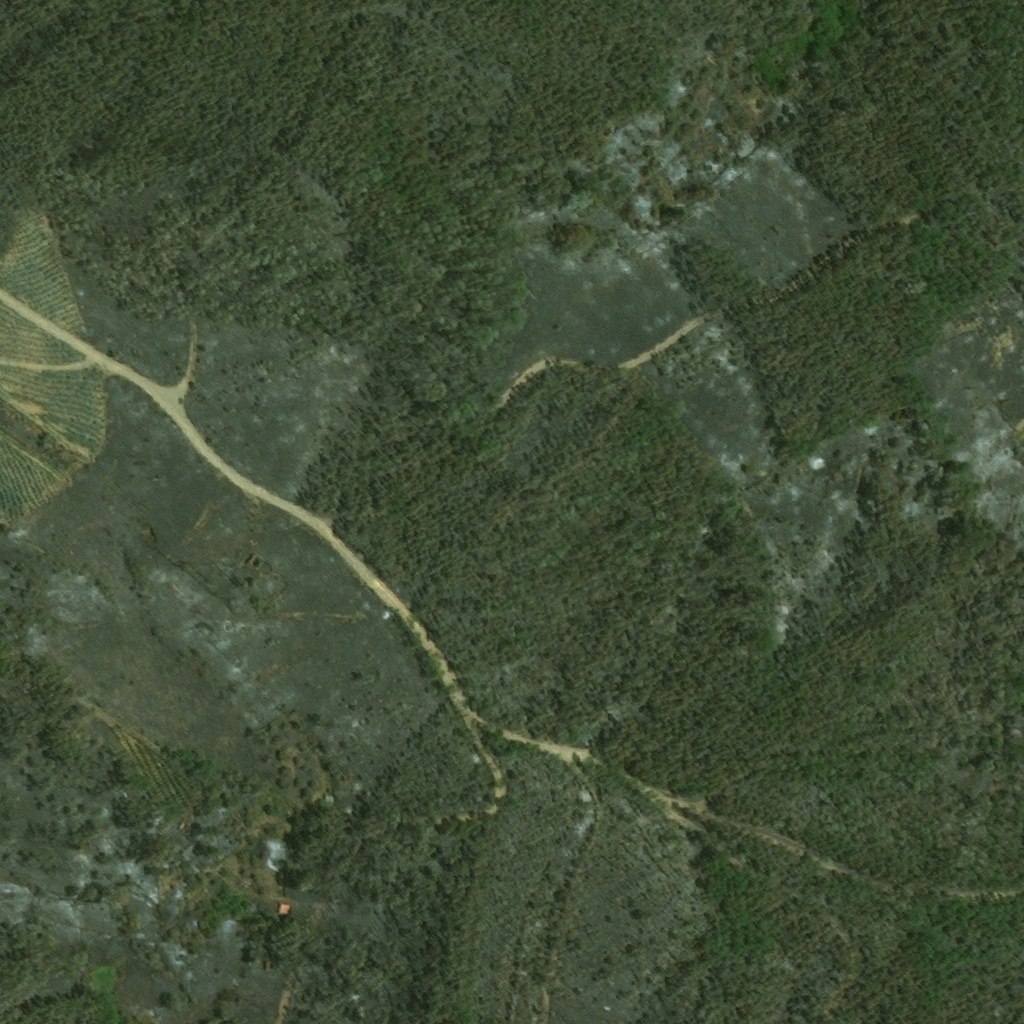1 minor-damage: (277, 904, 291, 916), (324, 796, 335, 807)
